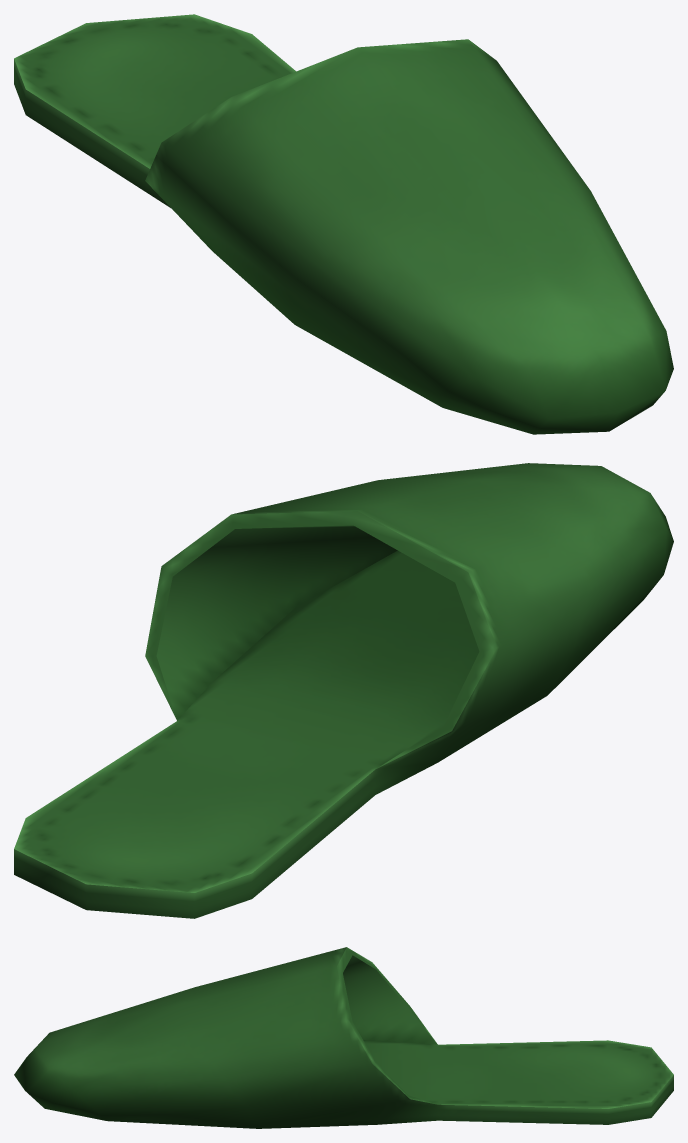
File: set_slippers_01.fbx
The picture shows the model from 3 angles, top to bottom: view 1: azimuth 30°, elevation 25°; view 2: azimuth 150°, elevation 25°; view 3: azimuth 270°, elevation 25°; orthographic projection. The views are drawn at different scales.
Parts seen in each view (by area): view 1: set_slippers_01; view 2: set_slippers_01; view 3: set_slippers_01.
Boxes of the visible parts, bbox=[...] form: set_slippers_01: bbox=[14, 14, 673, 434]; set_slippers_01: bbox=[14, 463, 673, 918]; set_slippers_01: bbox=[14, 947, 673, 1128].
Size of the model in its own units: 9.79 by 5.59 by 26.9.
